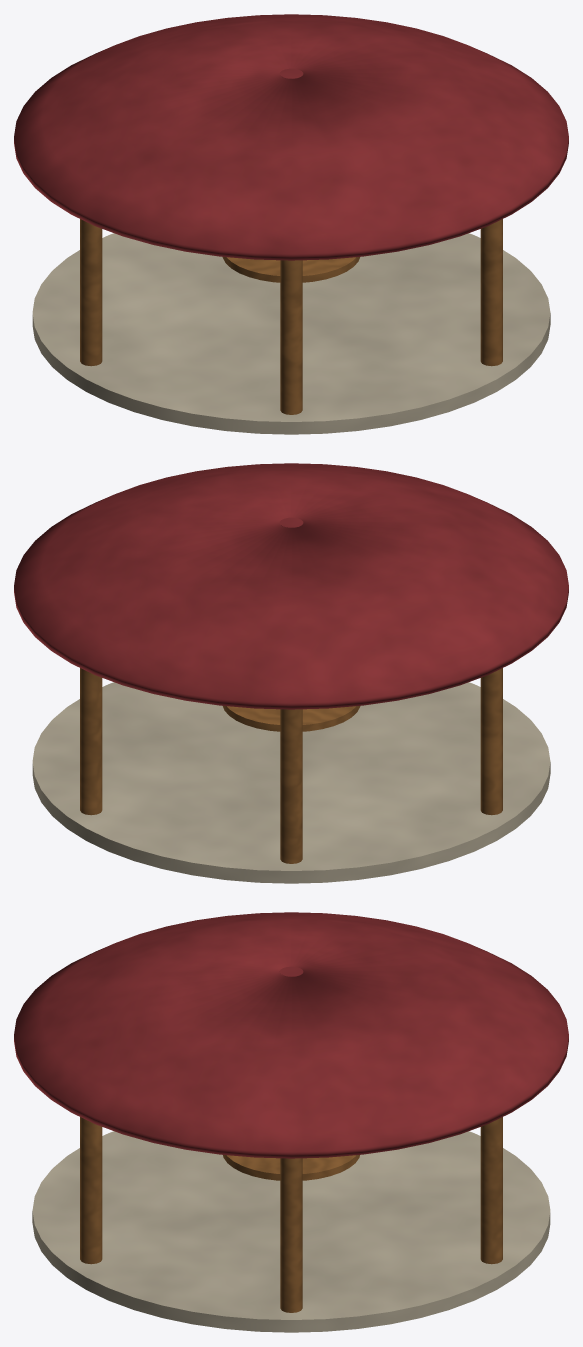
Rendered from Furn_Gazebo.fbx.
3 views of the same model, one above another, from view 1: azimuth 30°, elevation 25°; view 2: azimuth 150°, elevation 25°; view 3: azimuth 270°, elevation 25° (orthographic).
Parts seen in each view (by area): view 1: Furn_Gazebo_Mesh; view 2: Furn_Gazebo_Mesh; view 3: Furn_Gazebo_Mesh.
Part boxes in pixels (x1,y1,x2,y2): Furn_Gazebo_Mesh: (14, 14, 568, 434); Furn_Gazebo_Mesh: (14, 463, 568, 883); Furn_Gazebo_Mesh: (14, 912, 568, 1332).
Bounding box in the file's own units: 6 × 3 × 6.
3 materials, 3 textured.
